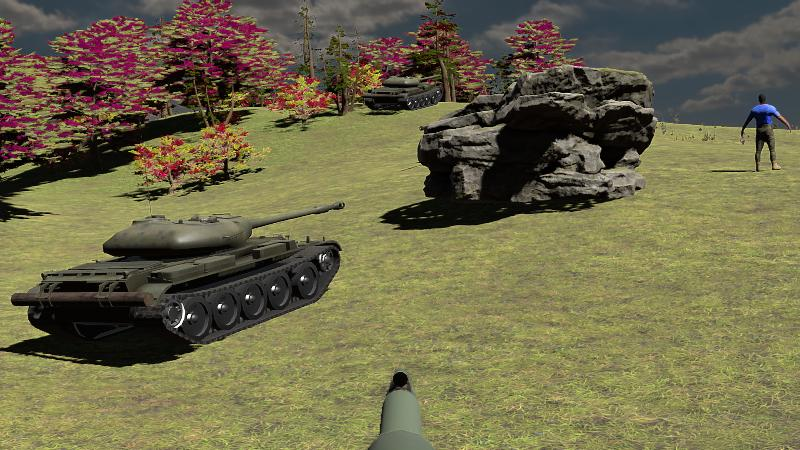Human: (741, 93, 791, 172)
Tank: (10, 202, 346, 354), (360, 75, 444, 111)
